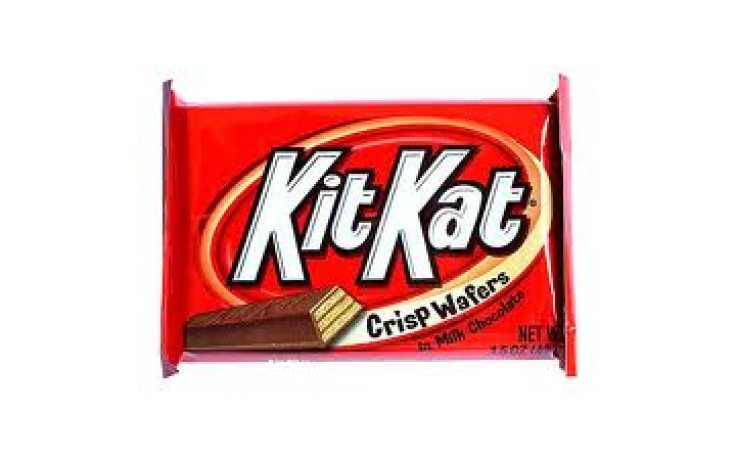kitkat: (120, 59, 589, 389)
